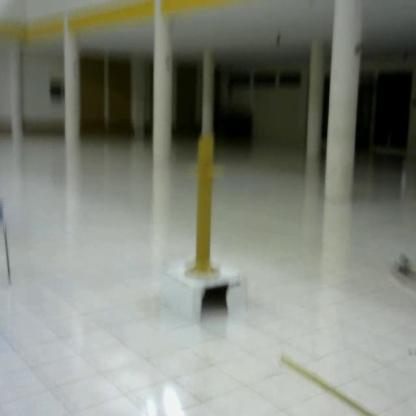pole: (182, 133, 227, 282)
